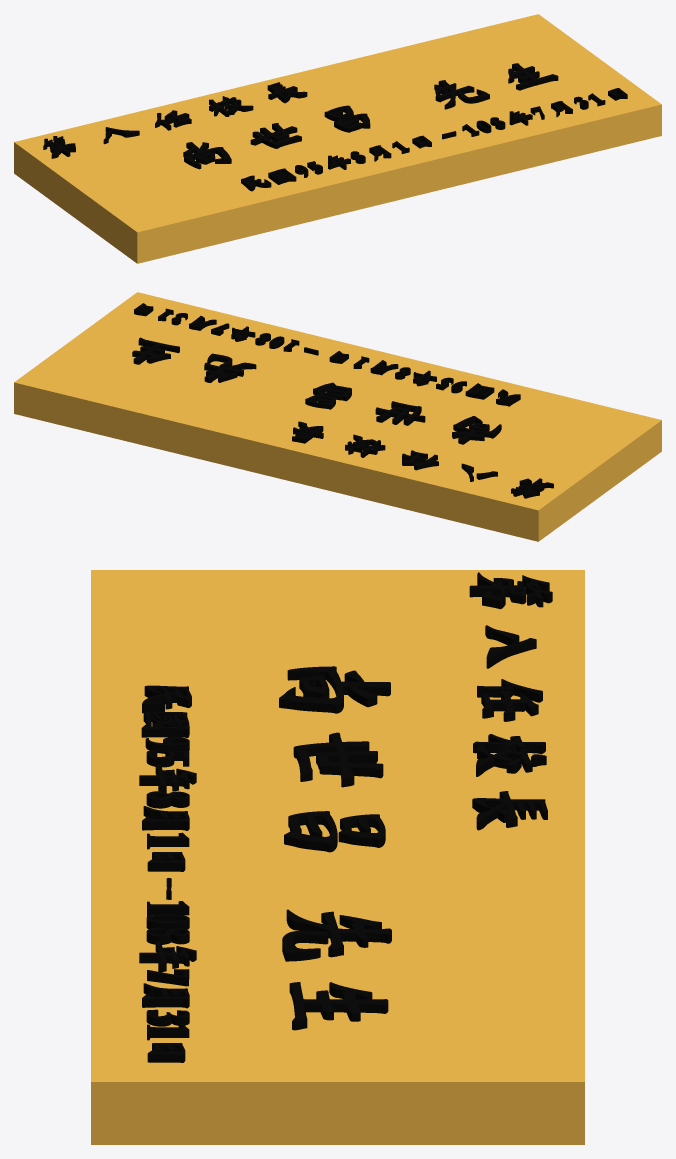
File: 第八任.FBX
3 views of the same model, one above another, from view 1: azimuth 30°, elevation 25°; view 2: azimuth 150°, elevation 25°; view 3: azimuth 270°, elevation 25° (orthographic). The views are drawn at different scales.
Parts seen in each view (by area): view 1: Box002, Text026, Text027, Text025; view 2: Box002, Text026, Text027, Text025; view 3: Box002, Text026, Text027, Text025.
Boxes of the visible parts, x1,y1,x2,y2 form: Box002: (14,14,661,263); Text026: (183,63,558,169); Text027: (241,88,627,191); Text025: (43,82,307,158); Box002: (14,292,661,541); Text026: (132,337,501,444); Text027: (134,303,520,406); Text025: (292,421,553,498); Box002: (91,570,584,1144); Text026: (279,666,391,1030); Text027: (139,685,196,1062); Text025: (469,572,552,830).
Size of the model in its own units: 469 by 30.53 by 191.
